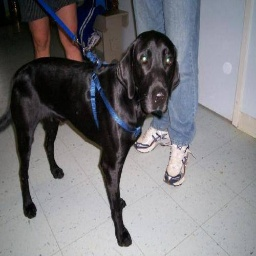dog: (11, 28, 183, 251)
